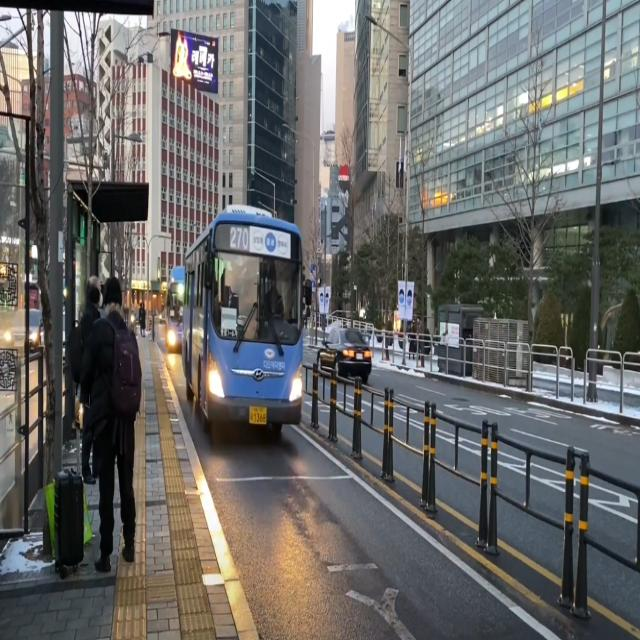bus-number: (229, 224, 249, 252)
